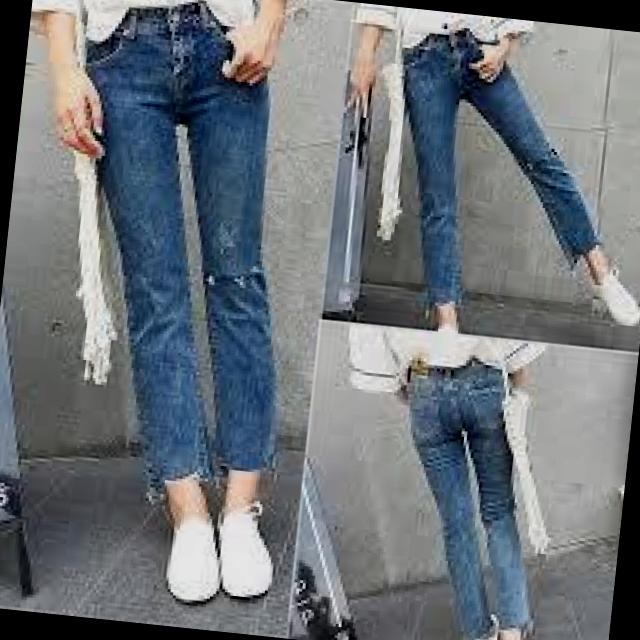pants: (32, 0, 324, 507), (371, 19, 629, 321), (380, 356, 561, 640)
